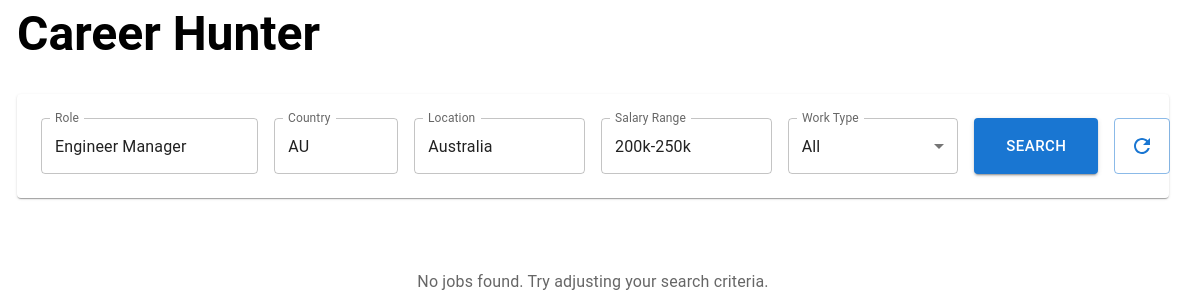
Test case: App › displays error message on API failure
Click the button "Search" at [1036, 146], box [974,118,1098,174]
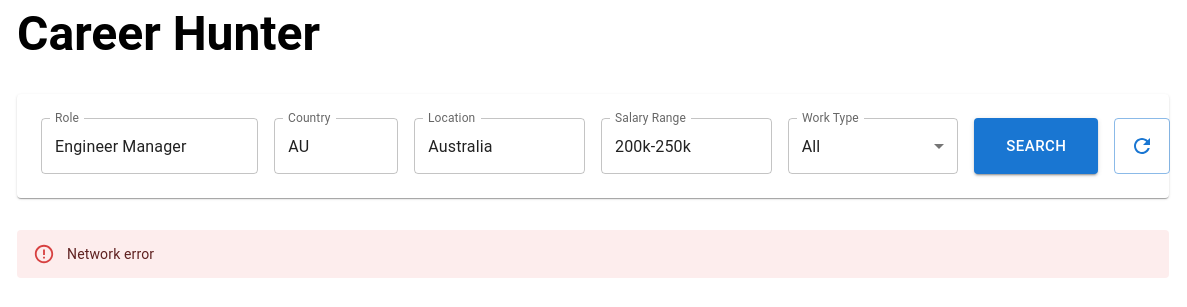
Result: the text "Network error" is shown at [67,246,154,262]
